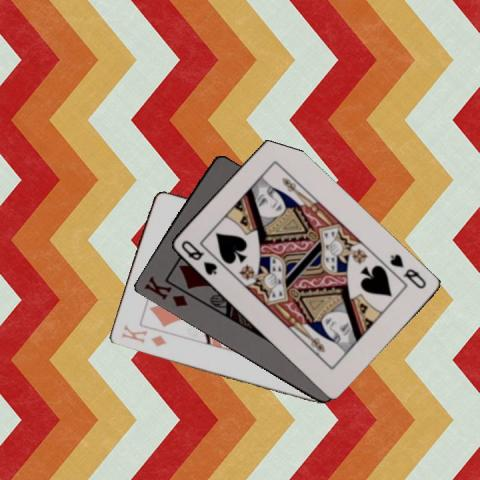Kd: (140, 272, 188, 308), (118, 322, 168, 349)
Qs: (177, 237, 219, 277), (387, 251, 427, 290)
